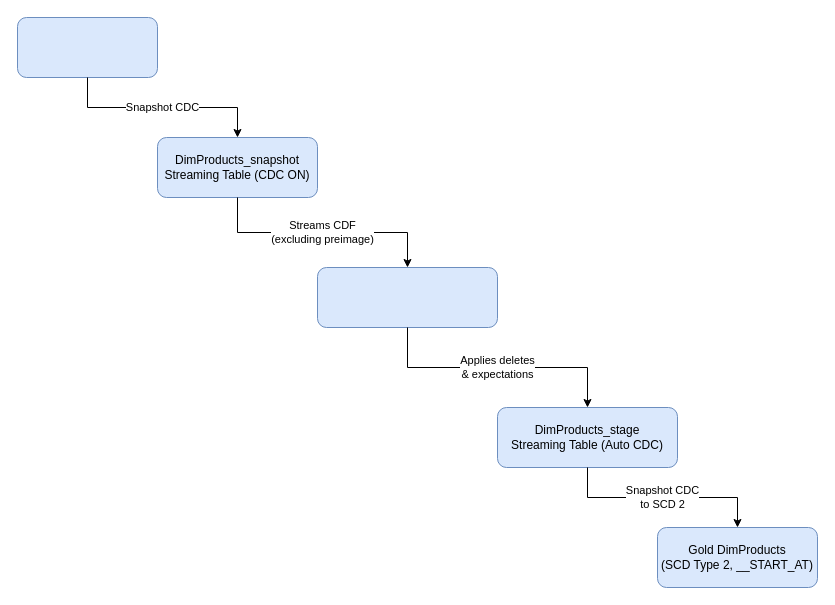
This 835x605 diagram has some shape labels left out. The centre of each missing label's shape, as x and y in pixels:
DimProducts_snapshot_changes Temp View: pixel 407 297
Silver Products (Full Overwrite): pixel 87 47
